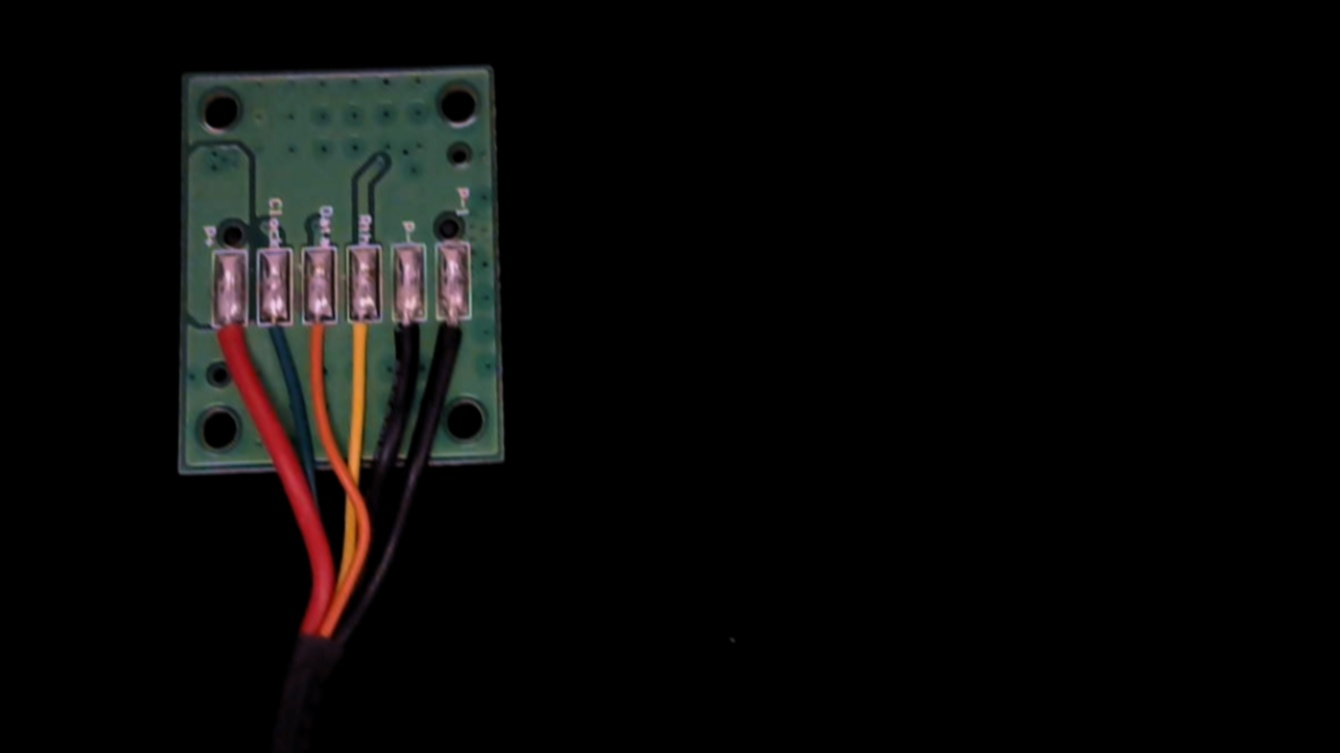Black: (387, 301, 426, 380)
Black1: (436, 298, 474, 380)
Green: (255, 304, 293, 378)
Orange: (298, 302, 337, 374)
Red: (208, 307, 248, 392)
Yellow: (344, 299, 378, 378)
